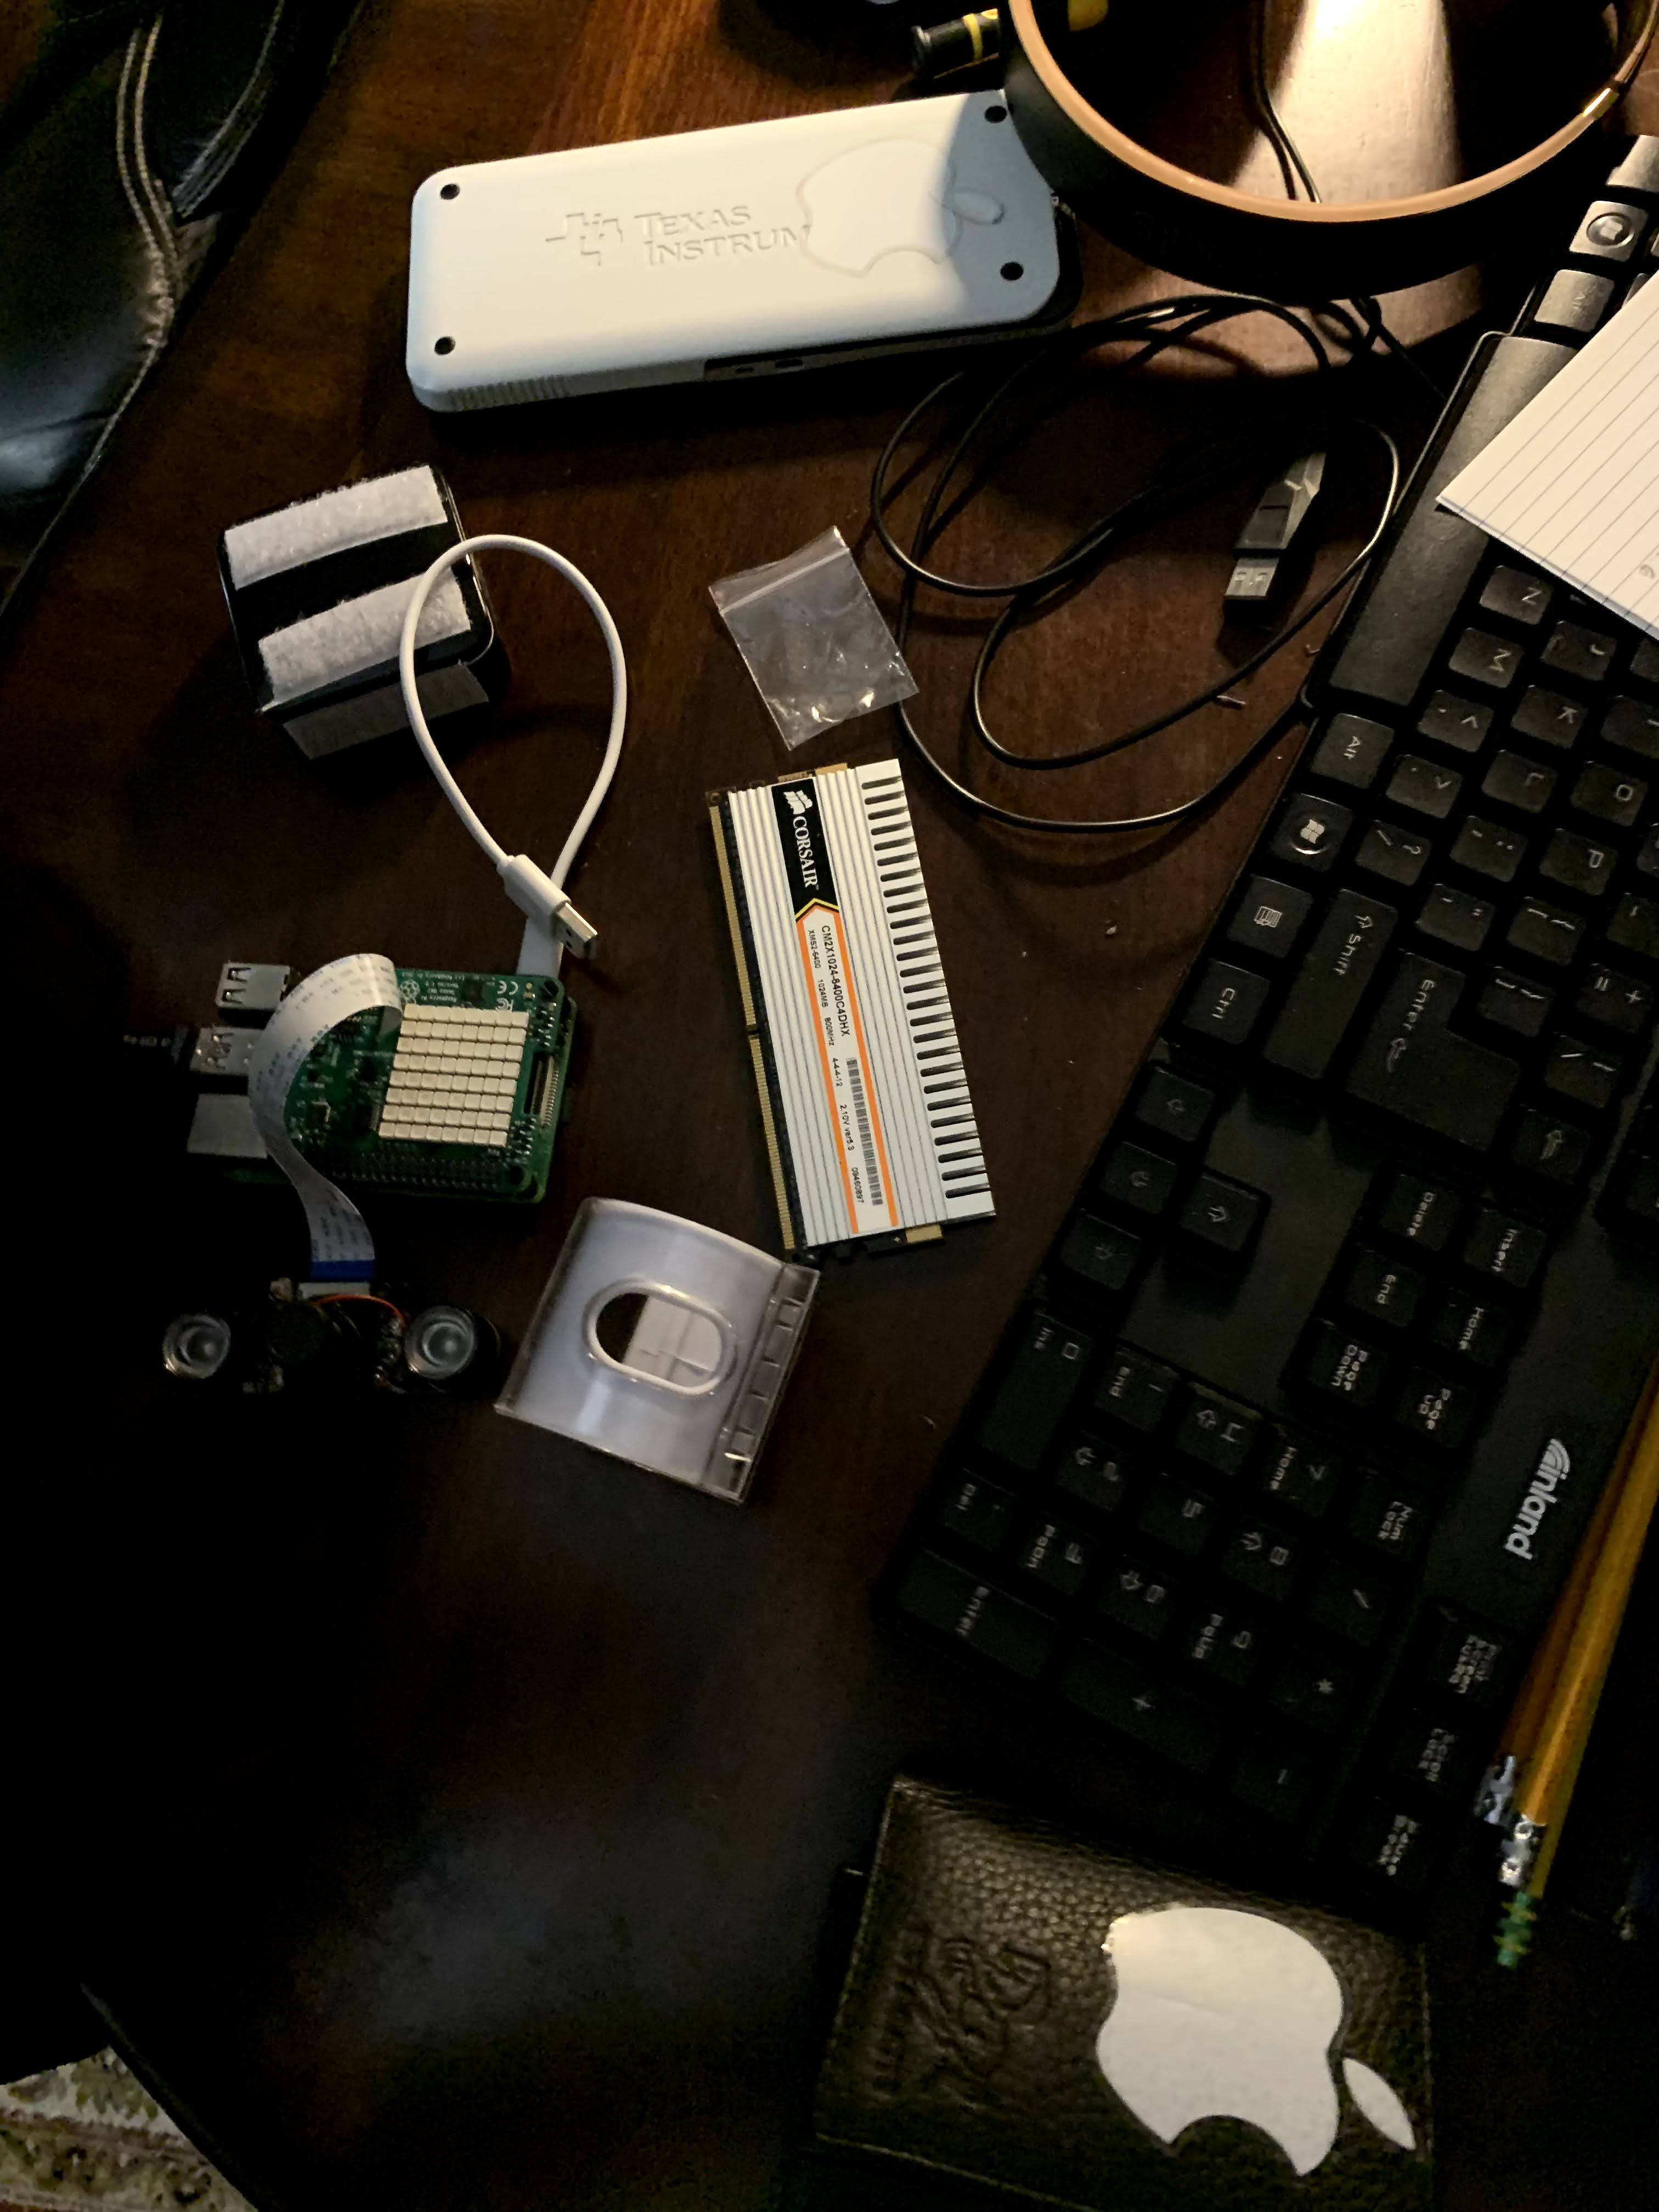Space-debris-medium: (687, 751, 1016, 1266)
